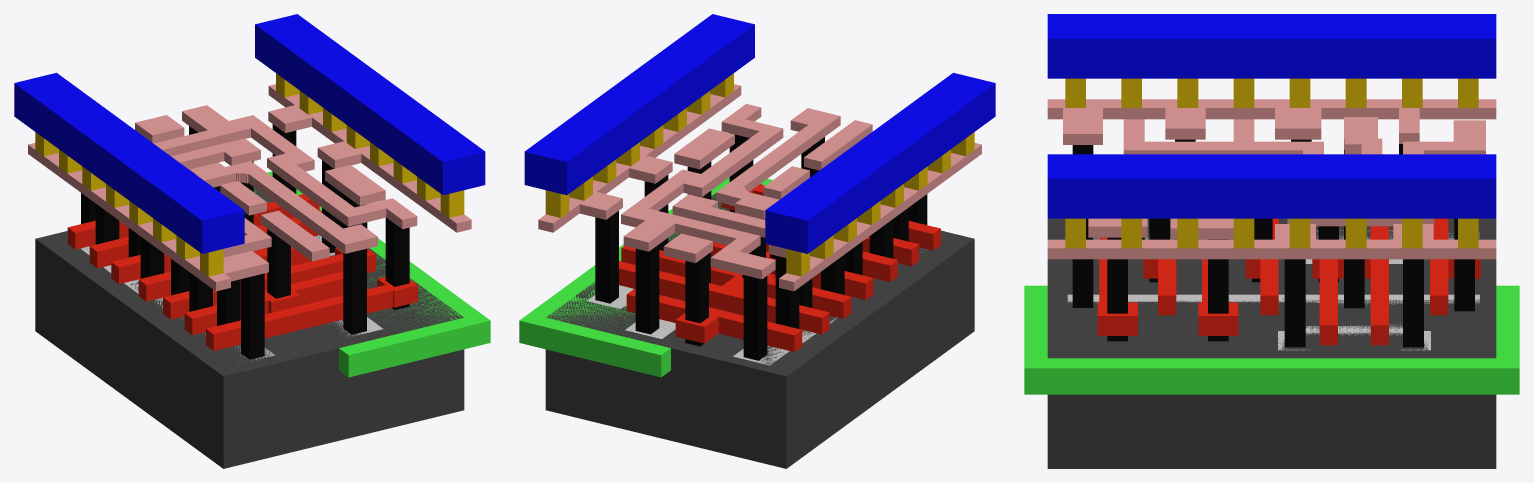
File: sky130_fd_sc_hd__or4b_2.obj
3 renders of one model, left to right at view 1: azimuth 30°, elevation 25°; view 2: azimuth 150°, elevation 25°; view 3: azimuth 270°, elevation 25°, orthographic. The views are drawn at different scales.
Parts seen in each view (by area): view 1: subs, metal1, li, poly, licon, nwell, mcon; view 2: subs, metal1, li, licon, poly, nwell, mcon, tap, diff; view 3: subs, metal1, li, nwell, licon, poly, mcon, tap.
Part boxes in pixels (left/top/right/bottom): subs: left=35, top=187, right=464, bottom=468; metal1: left=14, top=14, right=485, bottom=253; li: left=28, top=84, right=471, bottom=291; poly: left=67, top=194, right=417, bottom=350; licon: left=81, top=124, right=409, bottom=359; nwell: left=254, top=171, right=490, bottom=377; mcon: left=35, top=73, right=464, bottom=276; subs: left=545, top=193, right=974, bottom=468; metal1: left=524, top=14, right=995, bottom=253; li: left=538, top=84, right=981, bottom=291; licon: left=595, top=133, right=927, bottom=360; poly: left=619, top=184, right=940, bottom=351; nwell: left=519, top=177, right=772, bottom=377; mcon: left=545, top=73, right=974, bottom=276; tap: left=587, top=285, right=675, bottom=338; diff: left=733, top=251, right=921, bottom=365; subs: left=1047, top=218, right=1496, bottom=468; metal1: left=1047, top=14, right=1496, bottom=218; li: left=1047, top=99, right=1496, bottom=259; nwell: left=1024, top=285, right=1519, bottom=394; licon: left=1072, top=139, right=1474, bottom=347; poly: left=1097, top=218, right=1480, bottom=345; mcon: left=1065, top=78, right=1478, bottom=248; tap: left=1067, top=294, right=1479, bottom=350.
Size of the model in its own units: 3.2 by 2.74 by 4.06.
